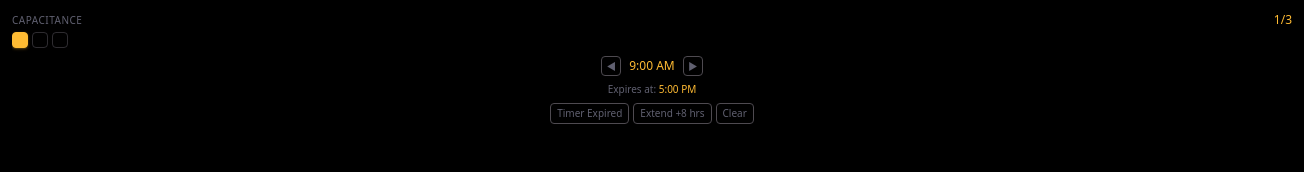
Test: SiphonCapacitanceTracker › extend +8 hrs adds 8 hours to expiry
The image size is (1304, 172).
Click the button "Extend +8 hrs" at (672, 114), box [633, 103, 712, 124]
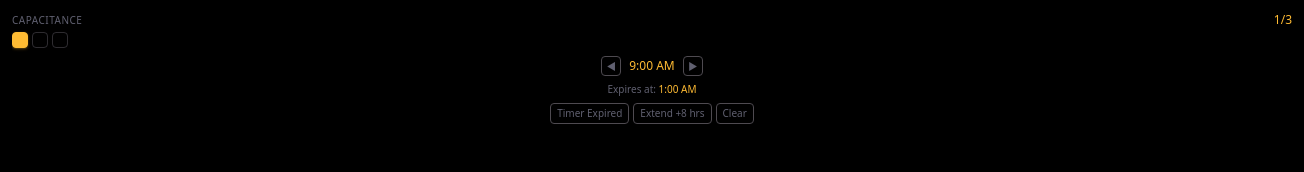
Now the text "1:00 AM" is shown, box [659, 82, 696, 96]
